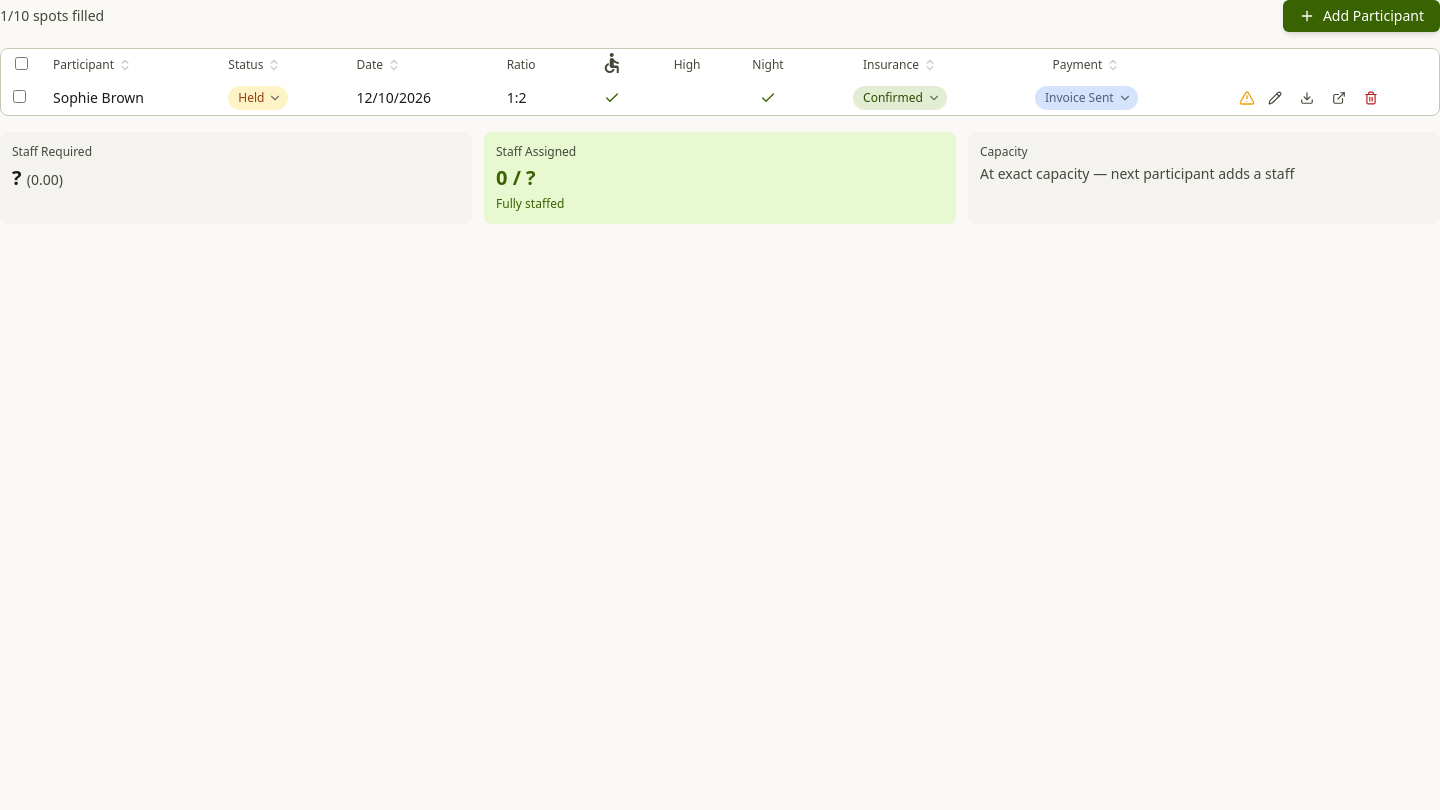
BookingsTab — editing a booking keeps the details the list row does not carry › shows the load failure with Try again, never an empty editable form, and recovers on retry
Click the button titled "Edit booking".
click(1275, 98)  # box [1263,86,1287,110]
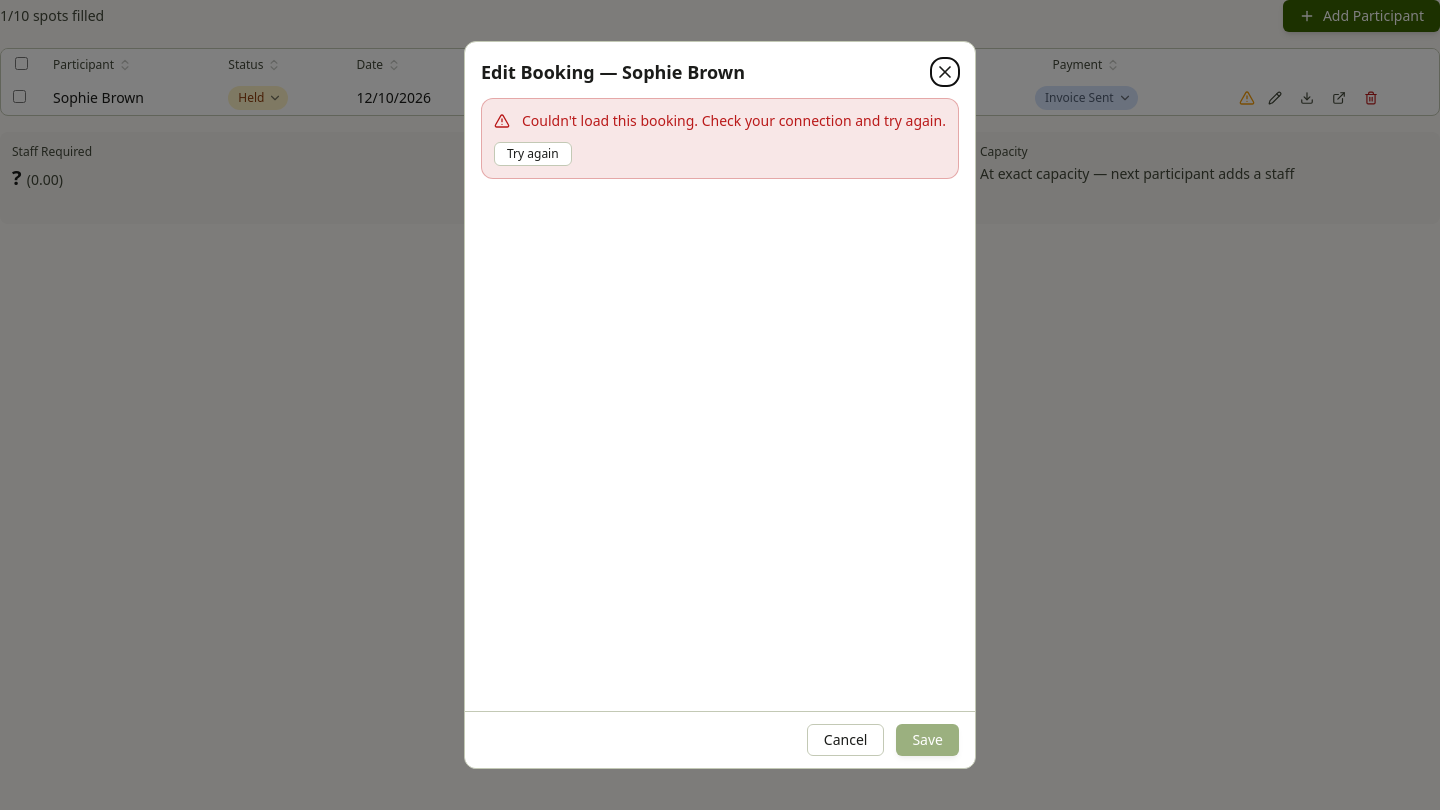
expect the text "Couldn't load this booking" is shown: met, box [522,111,946,130]
expect the button "Save" is disabled: met, box [896,724,959,756]
Click the button "Try again".
click(533, 154)  # box [494,142,572,166]
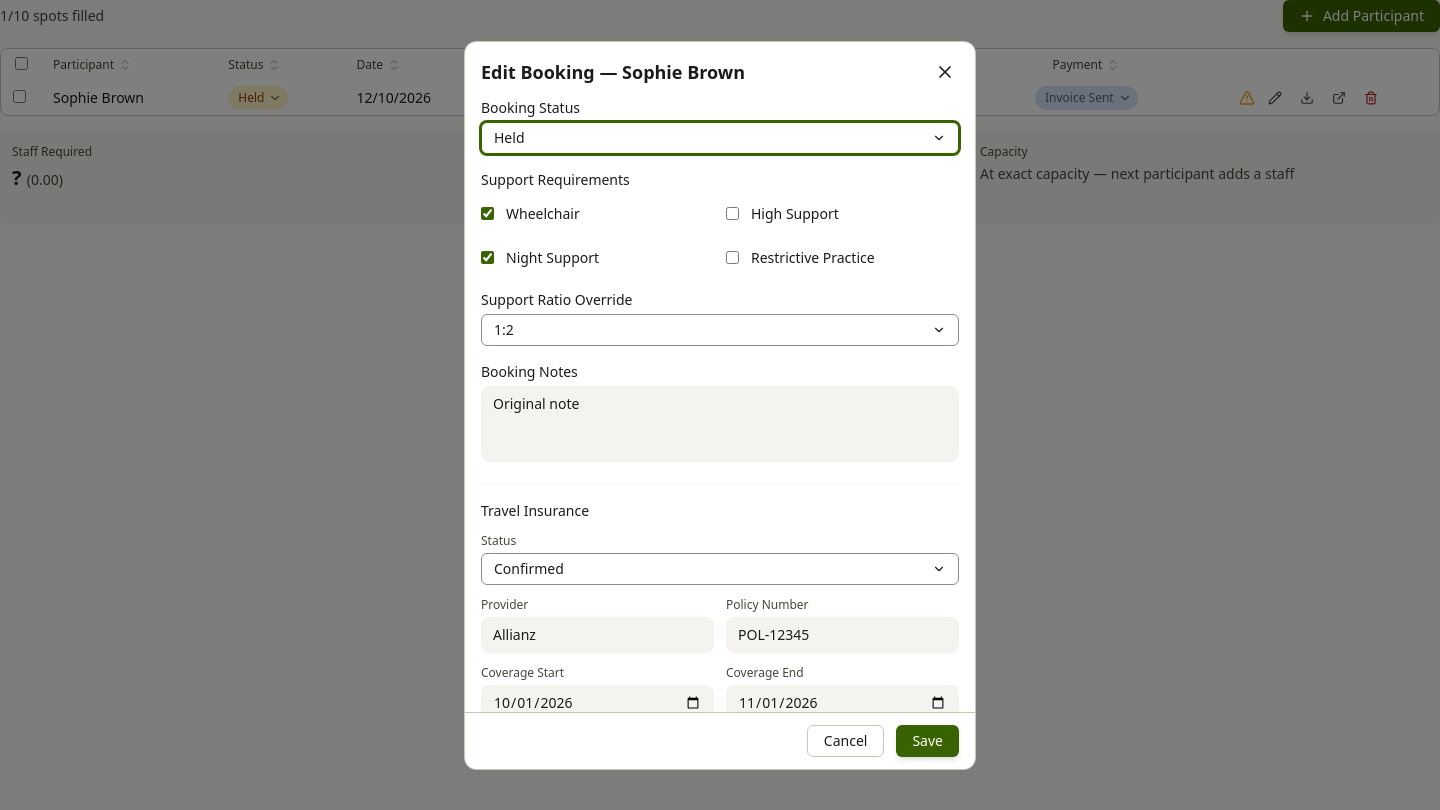
expect the text box with placeholder "Optional notes..." holds "Original note": met, box [481,386,959,462]
expect the button "Save" is enabled: met, box [896,724,959,756]
